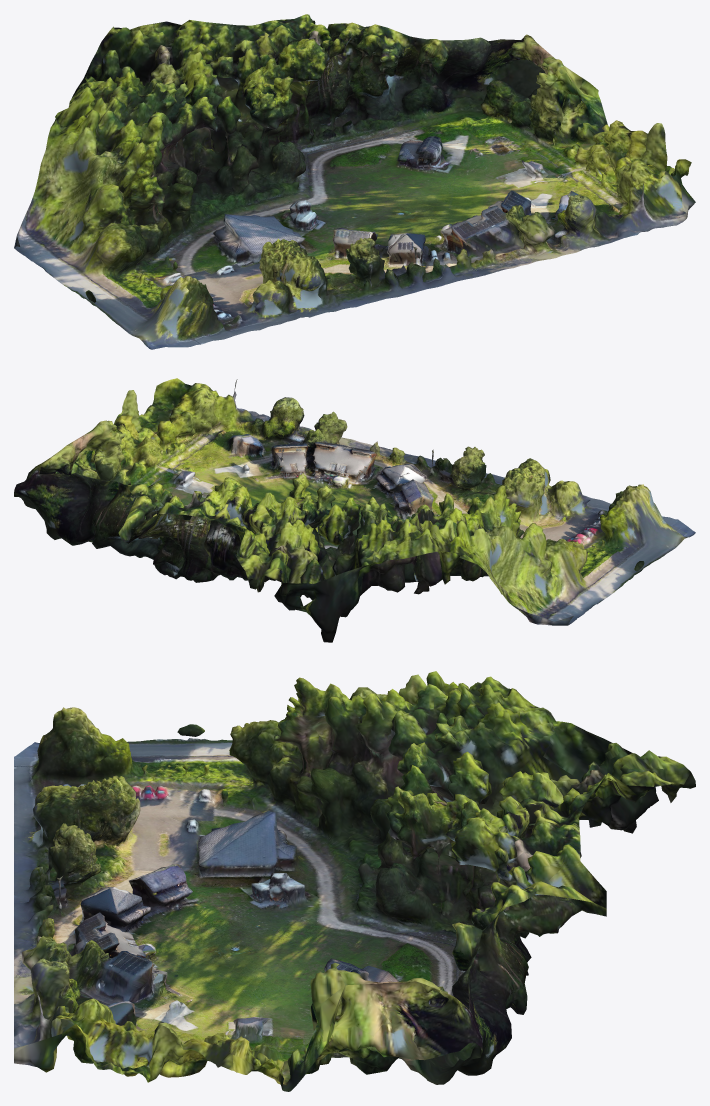
File: aozora-republic_all.glb
The picture shows the model from 3 angles, top to bottom: view 1: azimuth 30°, elevation 25°; view 2: azimuth 150°, elevation 25°; view 3: azimuth 270°, elevation 25°; orthographic projection. The views are drawn at different scales.
Visible parts, largest first — view 1: baked_mesh; view 2: baked_mesh; view 3: baked_mesh.
Boxes of the visible parts, box(x1,y1,x2,y2) form: baked_mesh: box(14, 14, 695, 349); baked_mesh: box(14, 378, 695, 642); baked_mesh: box(14, 671, 695, 1091).
Size of the model in its own units: 2.06 by 0.4109 by 1.69.
Materials: 1 (1 with a texture image).
